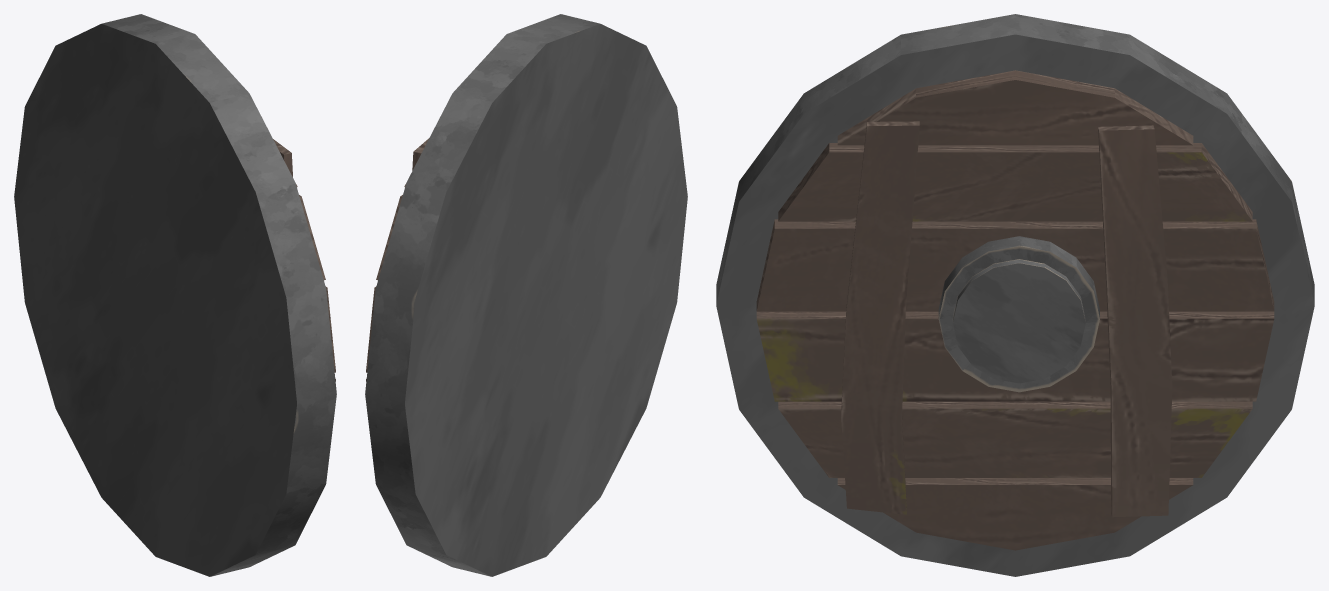
The model's file is SM_Wheel2.fbx.
The picture shows the model from 3 angles, left to right: view 1: azimuth 30°, elevation 25°; view 2: azimuth 150°, elevation 25°; view 3: azimuth 270°, elevation 25°; orthographic projection. The views are drawn at different scales.
Parts seen in each view (by area): view 1: SM_Wheel2; view 2: SM_Wheel2; view 3: SM_Wheel2.
Boxes of the visible parts, bbox=[...] form: SM_Wheel2: bbox=[14, 14, 336, 576]; SM_Wheel2: bbox=[365, 14, 687, 576]; SM_Wheel2: bbox=[716, 14, 1314, 576].
Size of the model in its own units: 5.15 by 29.52 by 29.52.
